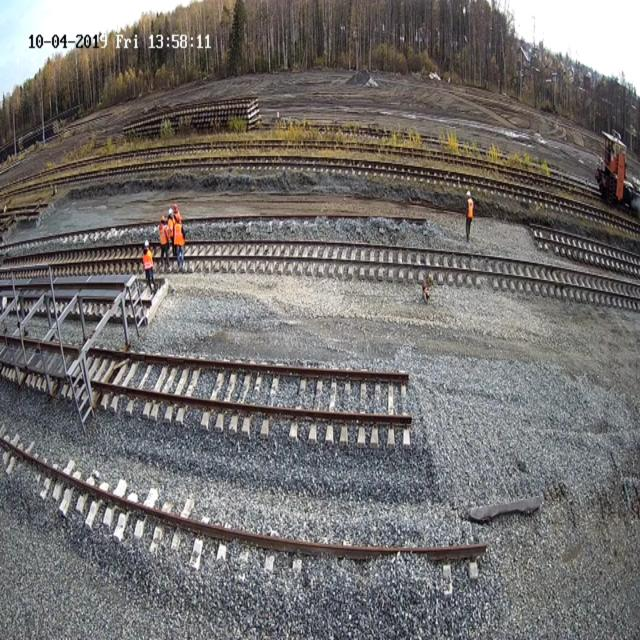Helmet: (144, 240, 149, 247), (168, 208, 172, 216), (466, 191, 471, 196)
Person: (157, 203, 193, 267), (142, 239, 156, 293), (465, 190, 474, 242)
